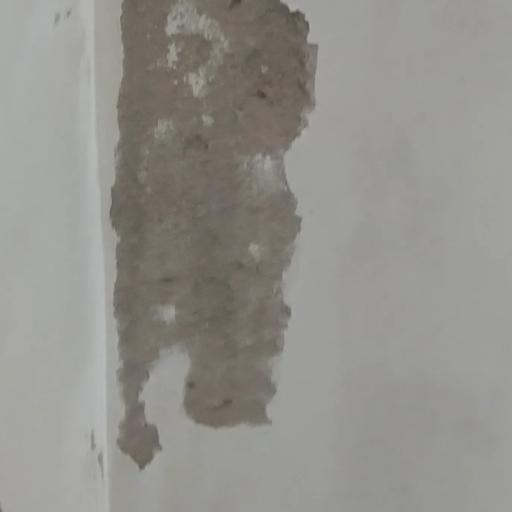peeling: (84, 0, 327, 486)
